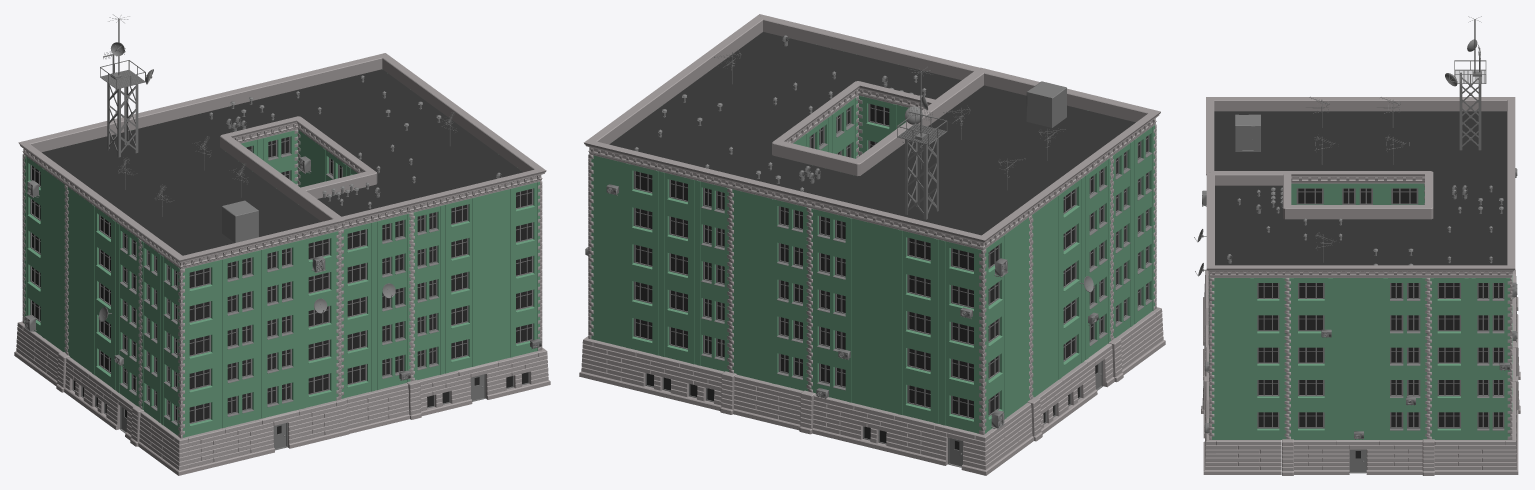
File: Building 7.fbx
3 renders of one model, left to right at view 1: azimuth 30°, elevation 25°; view 2: azimuth 150°, elevation 25°; view 3: azimuth 270°, elevation 25°, orthographic. The views are drawn at different scales.
Parts seen in each view (by area): view 1: air_vent_a.004; view 2: air_vent_a.004; view 3: air_vent_a.004.
Boxes of the visible parts, x1,y1,x2,y2 form: air_vent_a.004: [14, 14, 550, 475]; air_vent_a.004: [579, 14, 1165, 475]; air_vent_a.004: [1194, 16, 1520, 475].
Size of the model in its own units: 3561 by 2968 by 2744.
